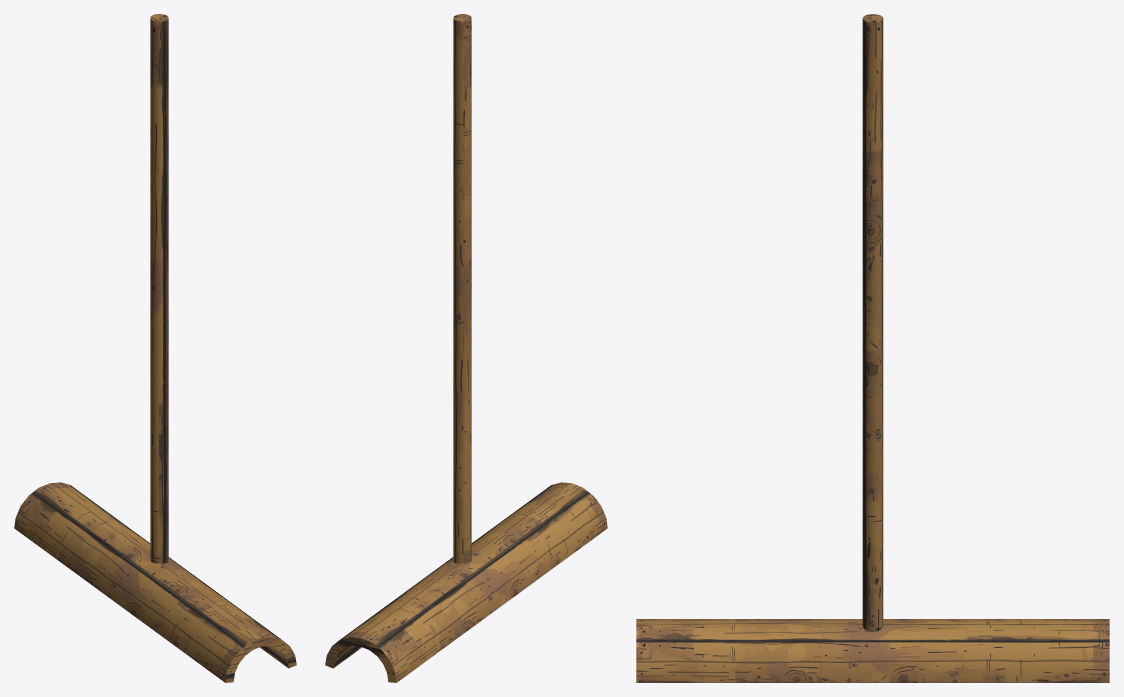
3 renders of one model, left to right at view 1: azimuth 30°, elevation 25°; view 2: azimuth 150°, elevation 25°; view 3: azimuth 270°, elevation 25°, orthographic. The views are drawn at different scales.
Visible parts, largest first — view 1: f_1, f_; view 2: f_1, f_; view 3: f_1, f_.
Part boxes in pixels (x1,y1,x2,y2): f_1: (14, 482, 296, 682); f_: (150, 14, 168, 563); f_1: (325, 482, 607, 682); f_: (453, 14, 471, 563); f_1: (636, 619, 1109, 682); f_: (862, 14, 883, 631).
Size of the model in its own units: 2.31 by 17.89 by 11.83.
